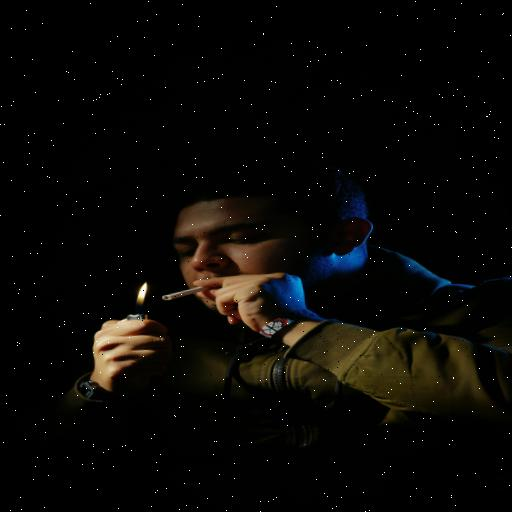terdeteksi merokok: (118, 226, 260, 329)
